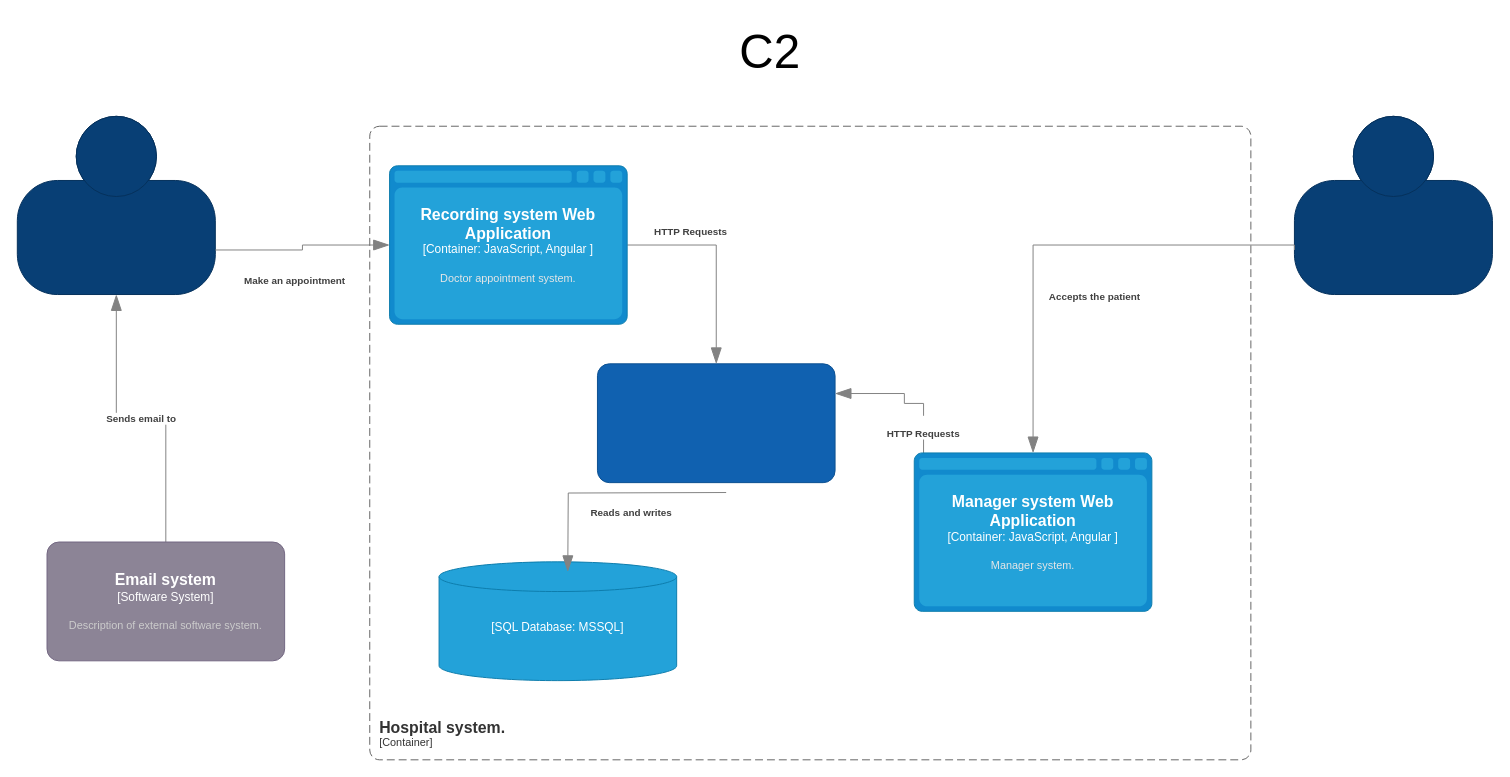
The diagram is 1510 pixels wide and 777 high, and some of its shapes have lost their labels. Here are the shapes that lost their labels. From the top down, the centre of each, then its label:
At [115,205]: "Patient name [Patient] Hospital visitor.".
At [1392,205]: "Manager name [Manager ] Hospital employee.".
At [715,423]: "Hospital system Web API [Software System] hospital system.".
